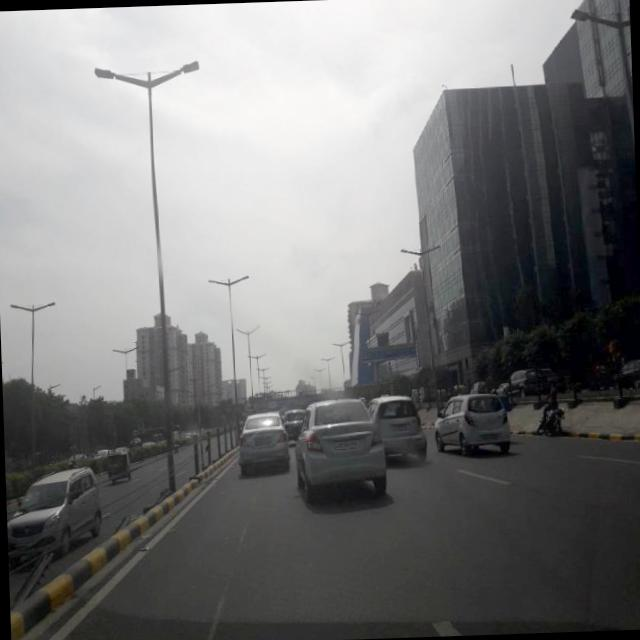pothole: (199, 479, 268, 638)
